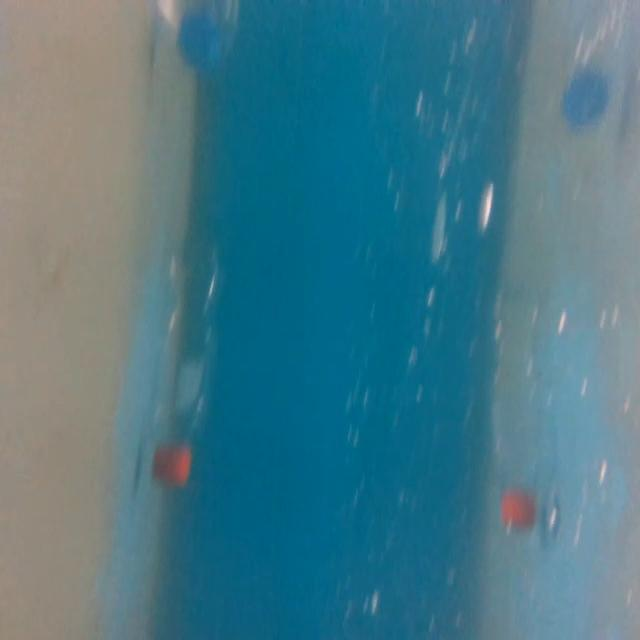plastic bottle: (150, 228, 230, 498)
